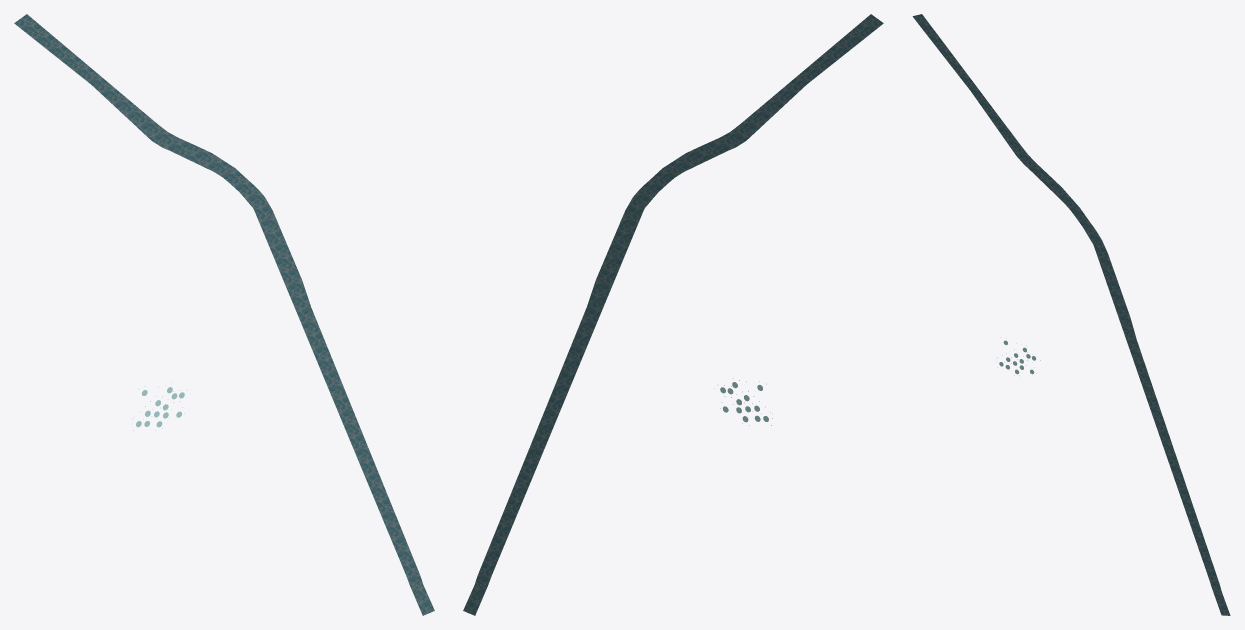
File: 90facewater.glb
The picture shows the model from 3 angles, left to right: view 1: azimuth 30°, elevation 25°; view 2: azimuth 150°, elevation 25°; view 3: azimuth 330°, elevation 25°; orthographic projection. The views are drawn at different scales.
Visible parts, largest first — view 1: root; view 2: root; view 3: root.
Part boxes in pixels (<box>): root: <box>14,14,434,615</box>; root: <box>463,14,883,615</box>; root: <box>912,14,1230,615</box>.
Bounding box in the file's own units: 314 × 499 × 4.5.
Materials: 2 (1 with a texture image).
